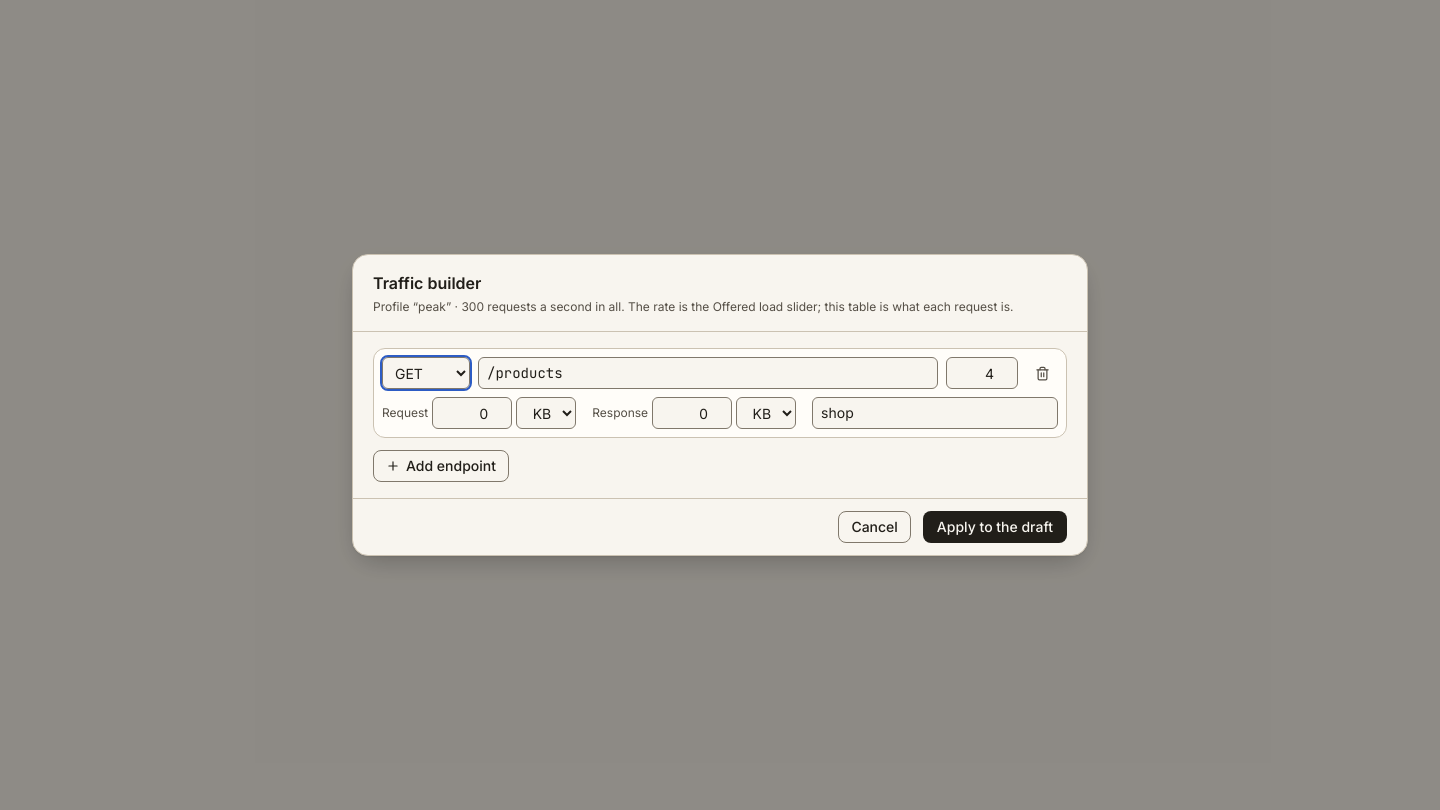
Test case: all_services_picks_every_service_and_not_the_database
Click the button with aria-label "Services behind endpoint 1".
click(935, 413)  # box [812,397,1058,429]
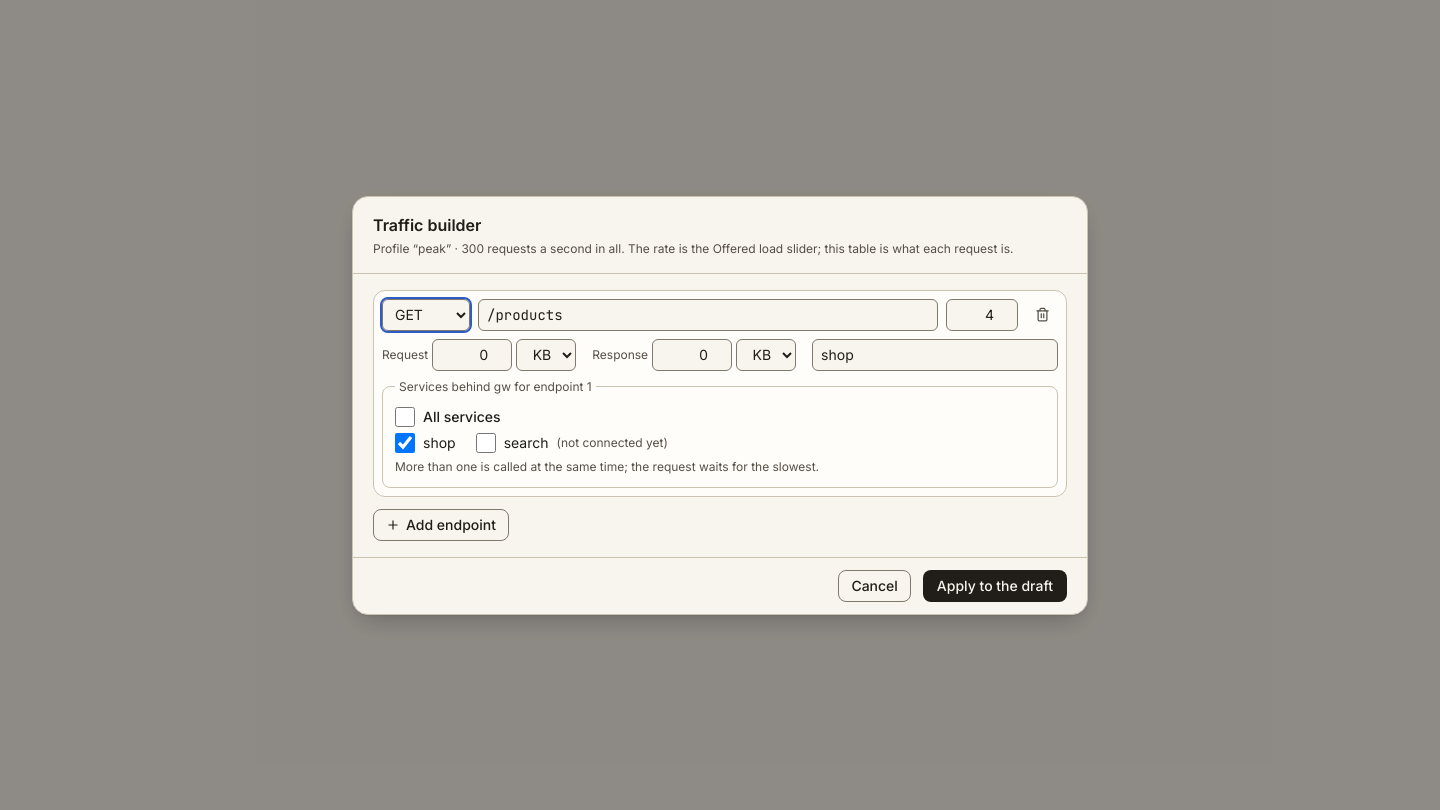
Click the checkbox labelled "All services".
click(405, 416)  # box [395,406,415,426]
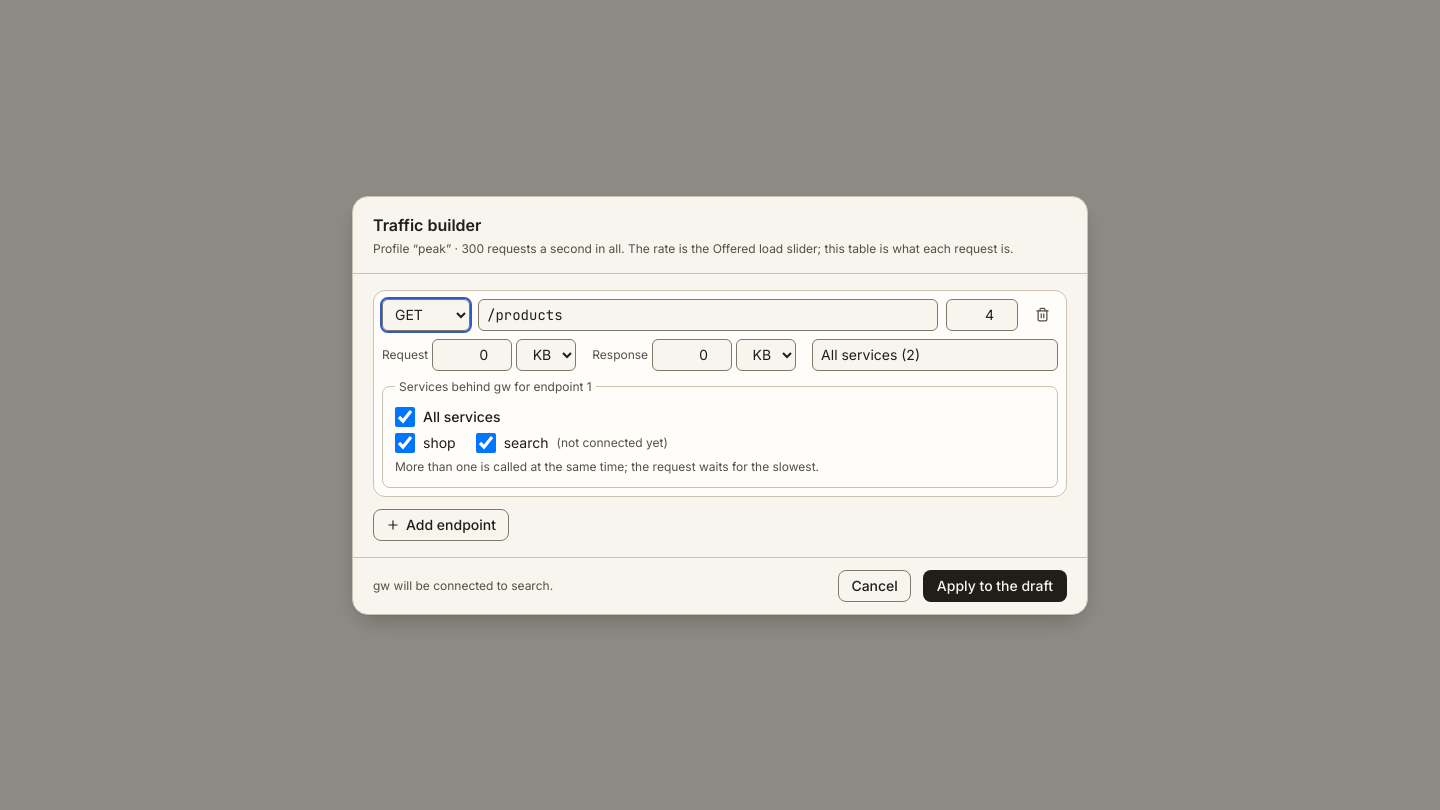
Now the checkbox labelled "shop" is checked, box [395,432,415,452]
Now the checkbox labelled "search (not connected yet)" is checked, box [476,432,496,452]
Now the button with aria-label "Services behind endpoint 1: All services (2)" is shown, box [812,338,1058,370]
